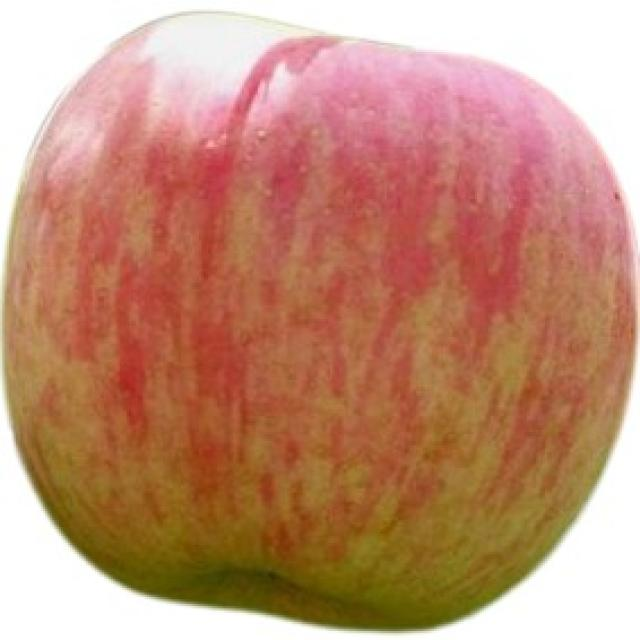75-_ripeness: (11, 6, 635, 629)
